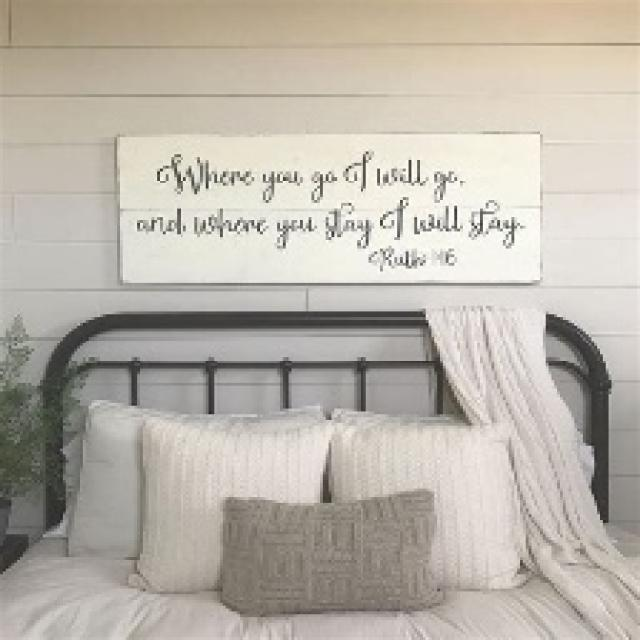Bed: (0, 306, 637, 637)
